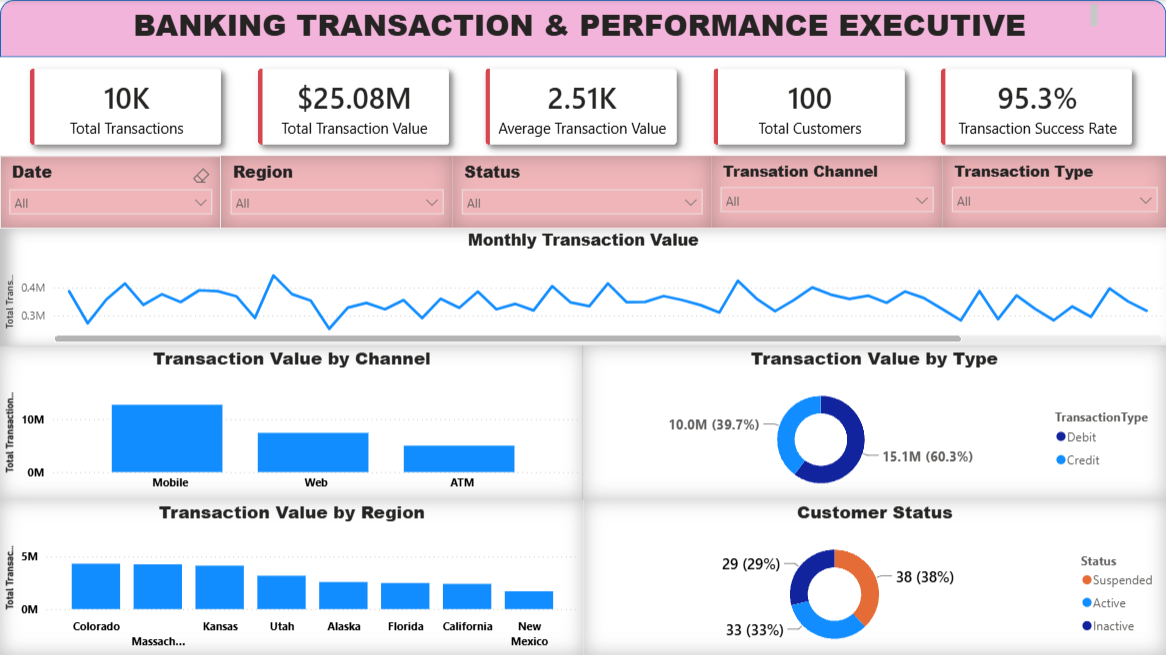

This screenshot's page, from the dashboard's own definition file:
{"tool":"powerbi","page":{"name":"BANKING TRANSACTION & PERFORMANCE EXECUTIVE","canvas":[1280,720],"ordinal":0},"visuals":[{"type":"cardVisual","fields":{"Data":["account.Total Transactions","account.Total Transaction Value","account.Average Transaction Value","account.Total Customers","account.Transaction Success Rate"]},"box":[0,42.5,1280,150],"z":0},{"type":"shape","box":[0,0,1280.3,63.1],"z":1000},{"type":"textbox","box":[71.4,0,1138.9,56.3],"z":2000},{"type":"slicer","fields":{"Values":["DateTable.Date"]},"box":[0,171.5,242.9,79.6],"z":2001},{"type":"slicer","fields":{"Values":["customer.Region"]},"box":[242.9,171.5,253.9,79.6],"z":2002},{"type":"slicer","fields":{"Values":["fact_transaction.TransactionChannel"]},"box":[780.8,171.5,253.9,79.6],"z":2003},{"type":"slicer","fields":{"Values":["customer.Status"]},"box":[496.7,171.5,284,79.6],"z":2004},{"type":"slicer","fields":{"Values":["fact_transaction.TransactionType"]},"box":[1034.7,171.5,245.6,79.6],"z":2005},{"type":"lineChart","title":"Monthly Transaction Value","fields":{"Category":["DateTable.Month Year"],"Y":["account.Total Transaction Value"]},"box":[0,251.1,1280.3,130.4],"z":2006},{"type":"clusteredColumnChart","title":"Transaction Value by Channel","fields":{"Category":["fact_transaction.TransactionChannel"],"Y":["account.Total Transaction Value"]},"box":[0,380.1,640.8,168.8],"z":2007},{"type":"donutChart","title":"Transaction Value by Type","fields":{"Category":["fact_transaction.TransactionType"],"Y":["account.Total Transaction Value"]},"box":[639.5,380.1,640.8,168.8],"z":2008},{"type":"columnChart","title":"Transaction Value by Region","fields":{"Y":["account.Total Transaction Value"],"Category":["customer.Region"]},"box":[0,548.9,640.8,171.5],"z":2009},{"type":"donutChart","title":"Customer Status","fields":{"Category":["customer.Status"],"Y":["account.Total Customers"]},"box":[641,549,639,171],"z":2010}]}

Visuals, with their boxes in screenshot pixels (x1, y1, x2, y2), scaled from the page's 1280x720 canvas onto the 1166x655 screenshot:
cardVisual - account.Total Transactions x account.Total Transaction Value: l=0, t=39, r=1165, b=175
shape: l=0, t=0, r=1165, b=57
textbox: l=65, t=0, r=1103, b=51
slicer - DateTable.Date: l=0, t=156, r=221, b=228
slicer - customer.Region: l=221, t=156, r=453, b=228
slicer - fact_transaction.TransactionChannel: l=711, t=156, r=943, b=228
slicer - customer.Status: l=452, t=156, r=711, b=228
slicer - fact_transaction.TransactionType: l=943, t=156, r=1165, b=228
"Monthly Transaction Value" lineChart: l=0, t=228, r=1165, b=347
"Transaction Value by Channel" clusteredColumnChart: l=0, t=346, r=584, b=499
"Transaction Value by Type" donutChart: l=583, t=346, r=1165, b=499
"Transaction Value by Region" columnChart: l=0, t=499, r=584, b=654
"Customer Status" donutChart: l=584, t=499, r=1165, b=654
